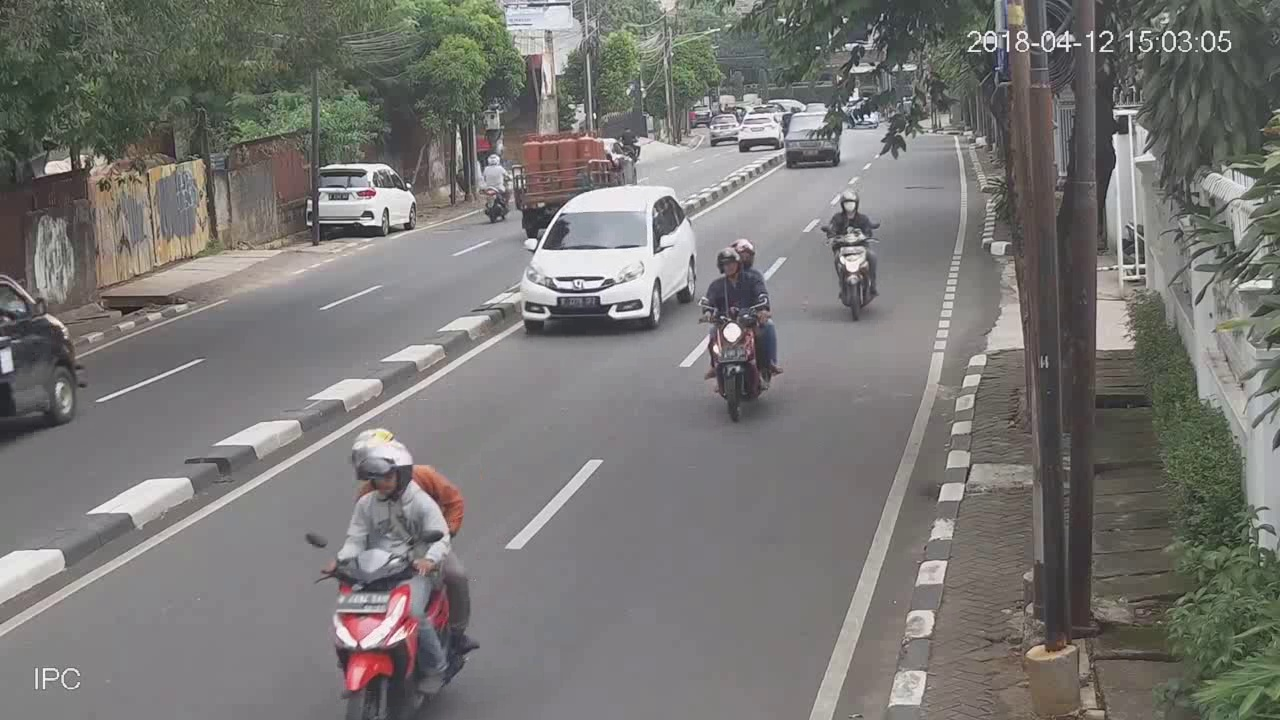car: (518, 177, 697, 332), (305, 157, 420, 239), (782, 111, 840, 165), (740, 114, 782, 152), (710, 114, 737, 147)
motorcycle: (299, 427, 481, 720), (696, 237, 780, 426), (819, 187, 891, 322), (481, 149, 515, 220)
